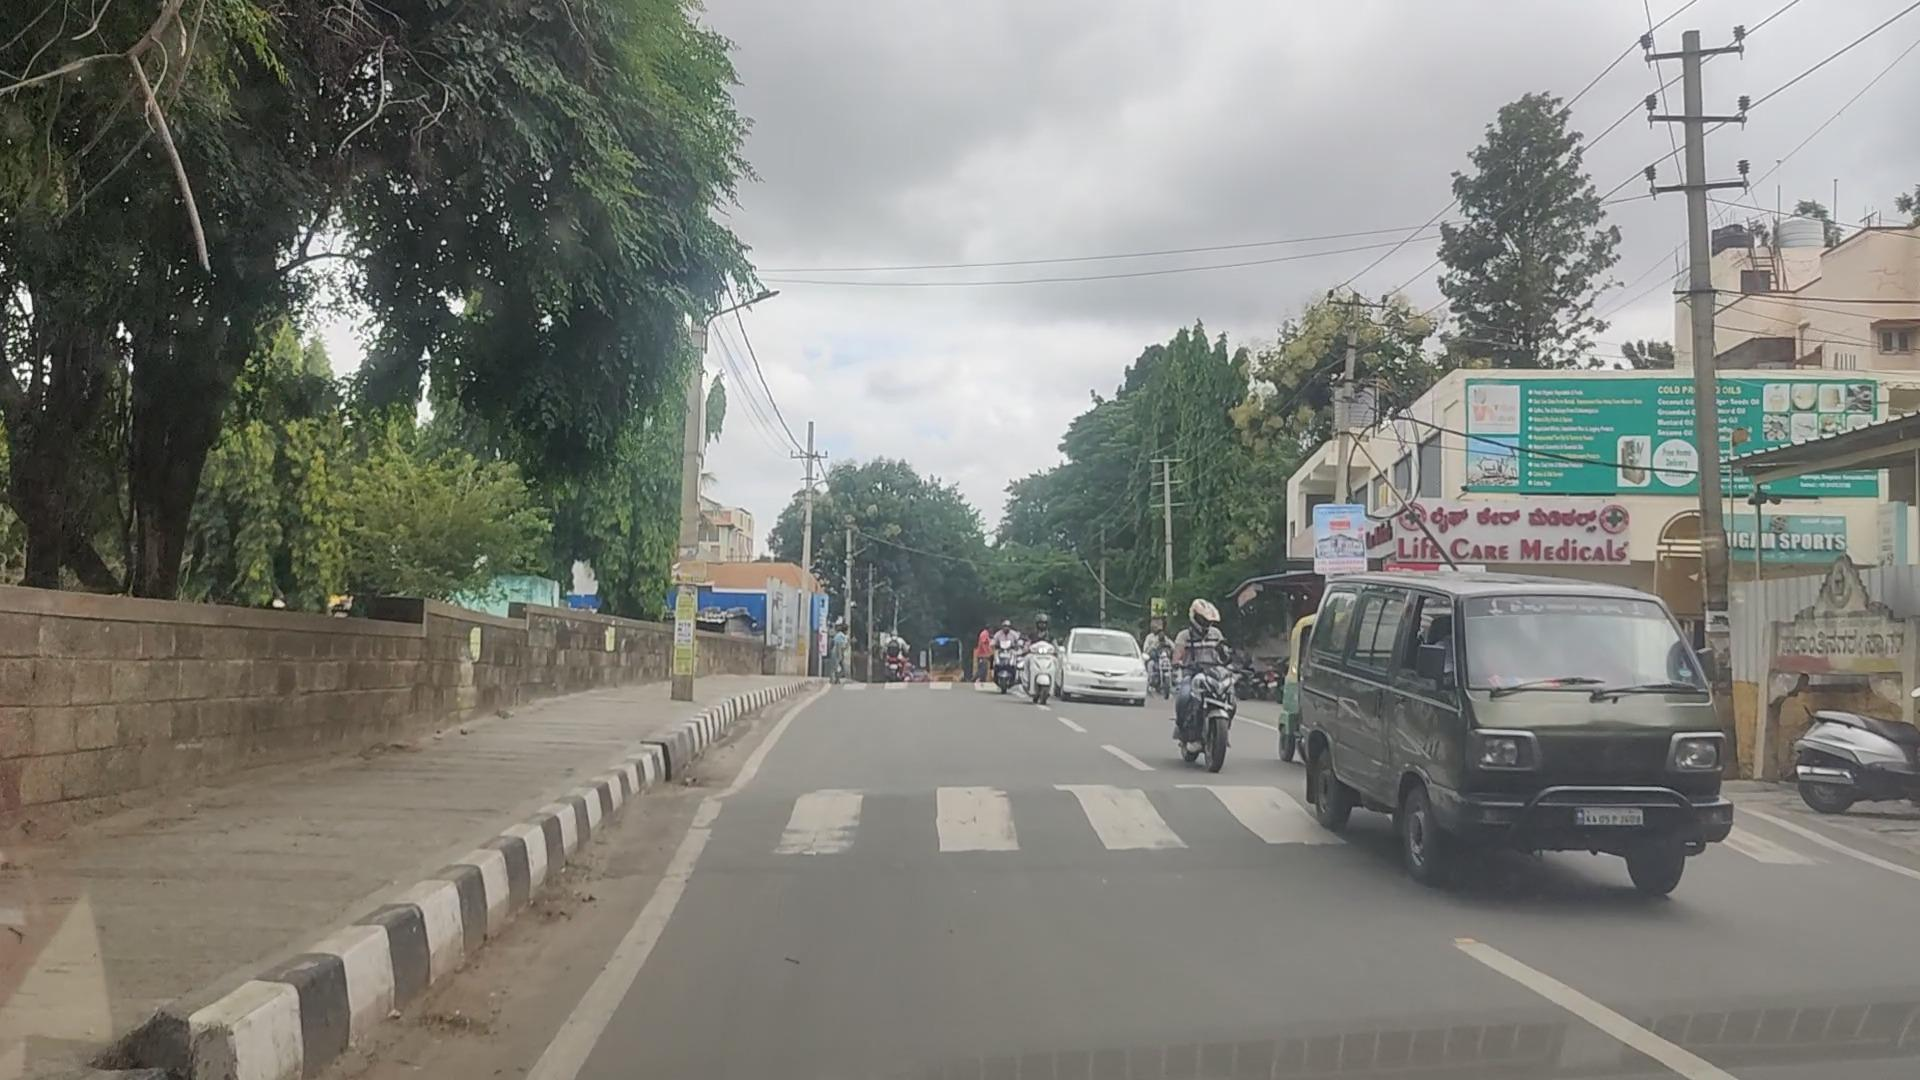LMV: (1291, 563, 1729, 903)
SpeedBump: (653, 770, 1291, 856)
